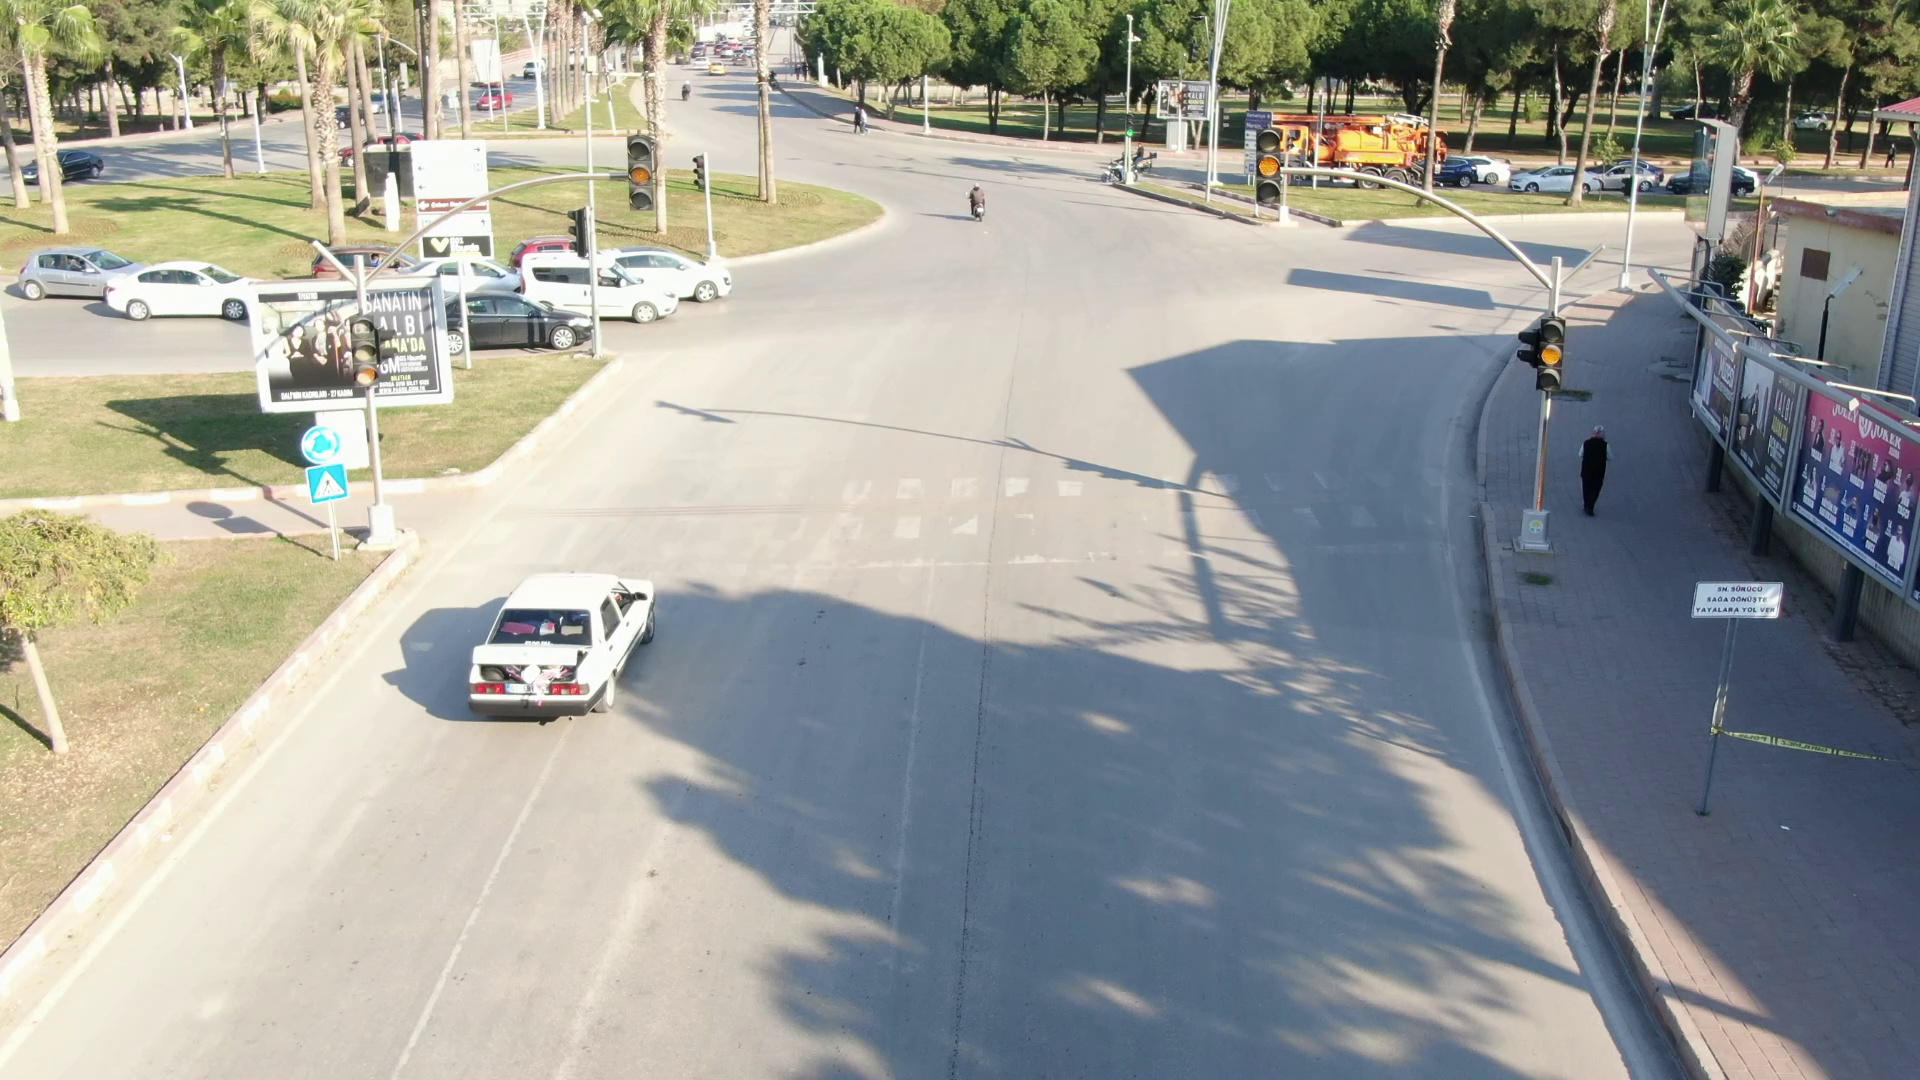car: (437, 565, 684, 731), (527, 241, 688, 319), (100, 259, 268, 327), (433, 282, 606, 347), (10, 239, 153, 312), (610, 243, 745, 300)
person: (1561, 404, 1612, 517), (949, 178, 1002, 227)
